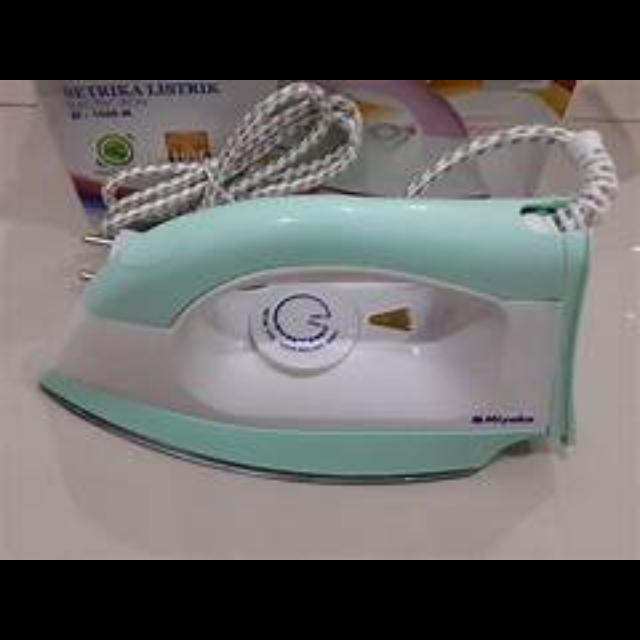Clothes-Iron: (31, 186, 602, 492)
